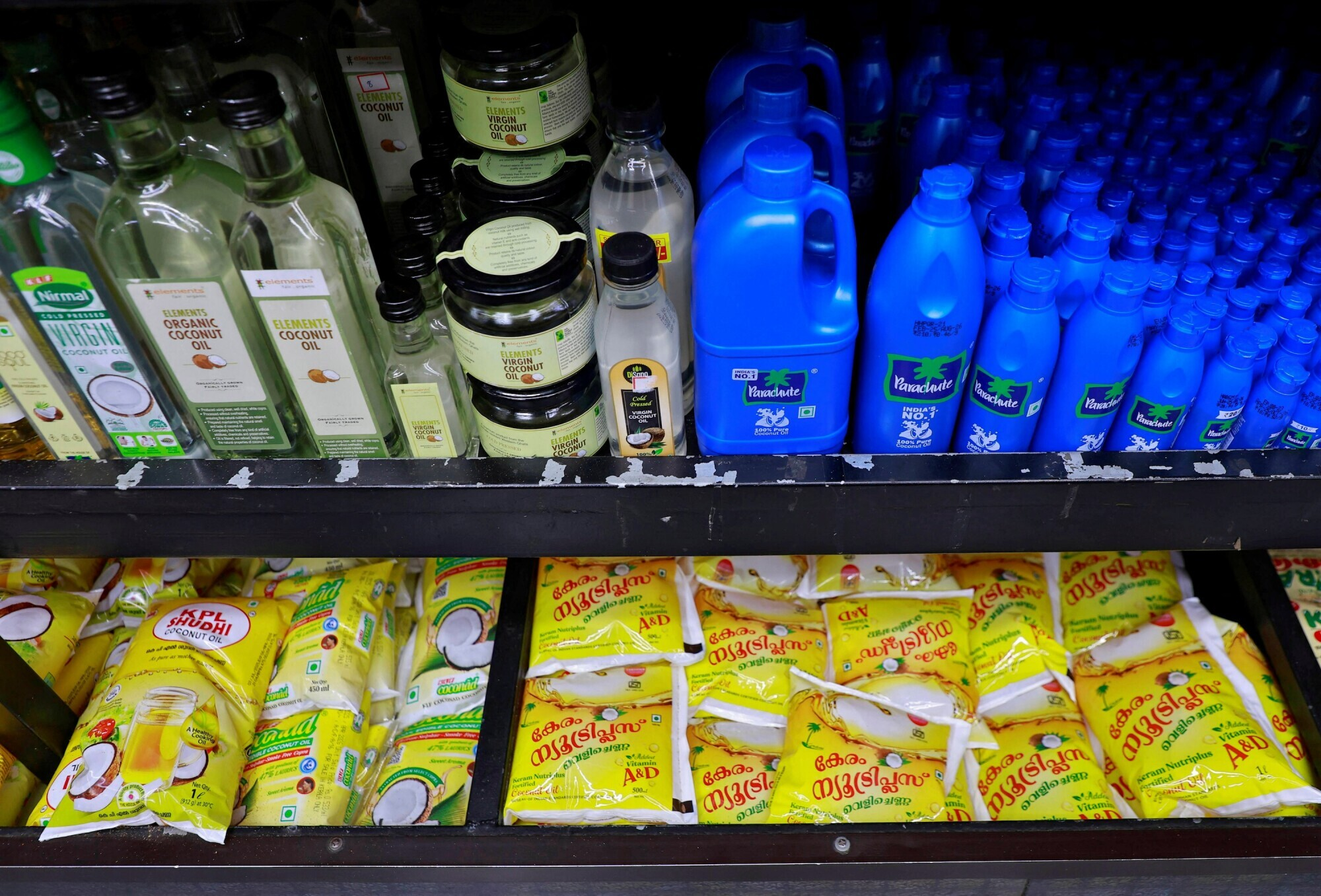parachute: (0, 557, 507, 843)
